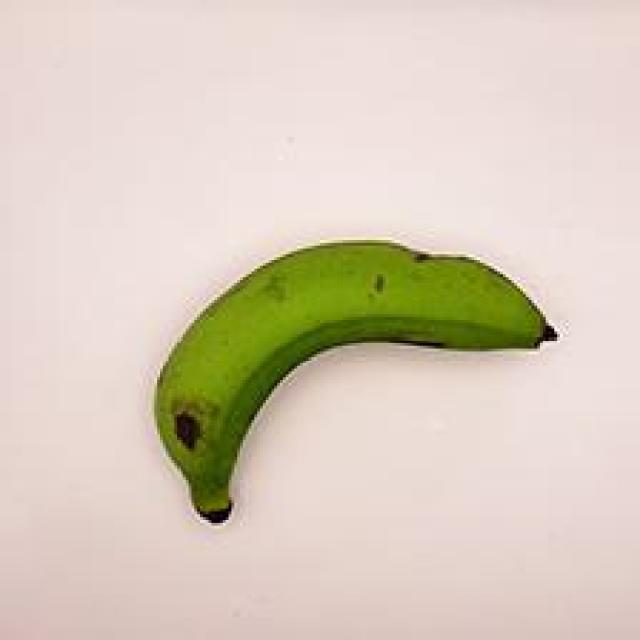Raw: (126, 217, 569, 560)
